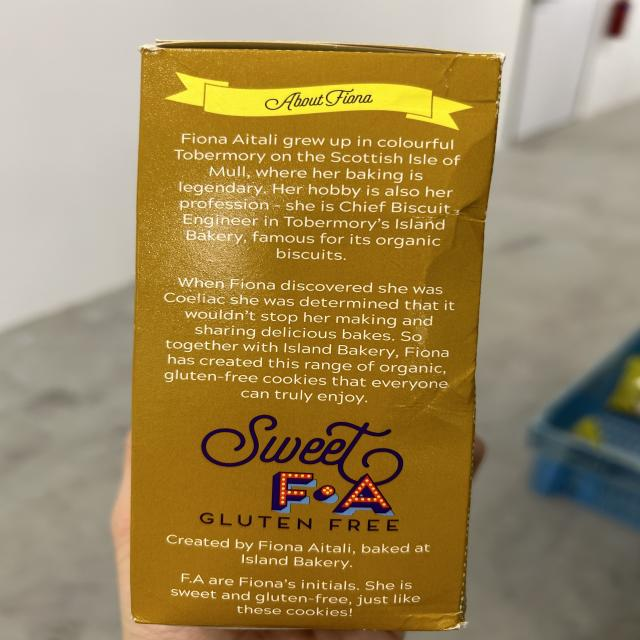object_name: (146, 48, 460, 628)
